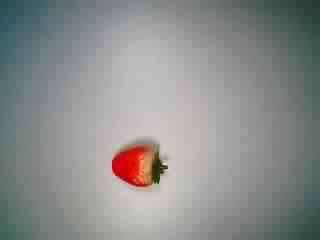strawberry: (107, 130, 173, 192)
